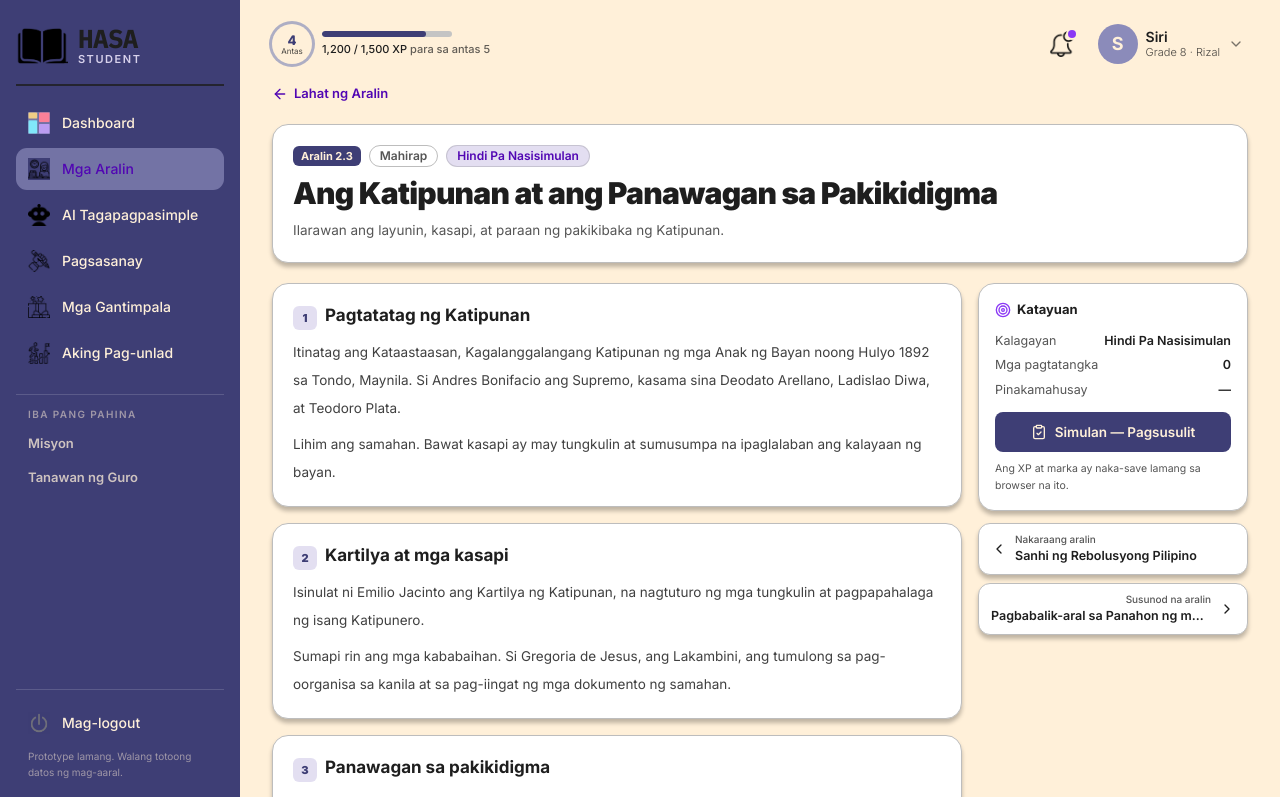
it: mga aralin › binubuksan ang pagsusulit mula sa aralin
Click the link "Simulan — Pagsusulit".
click(1113, 432)  # box [995,412,1231,452]
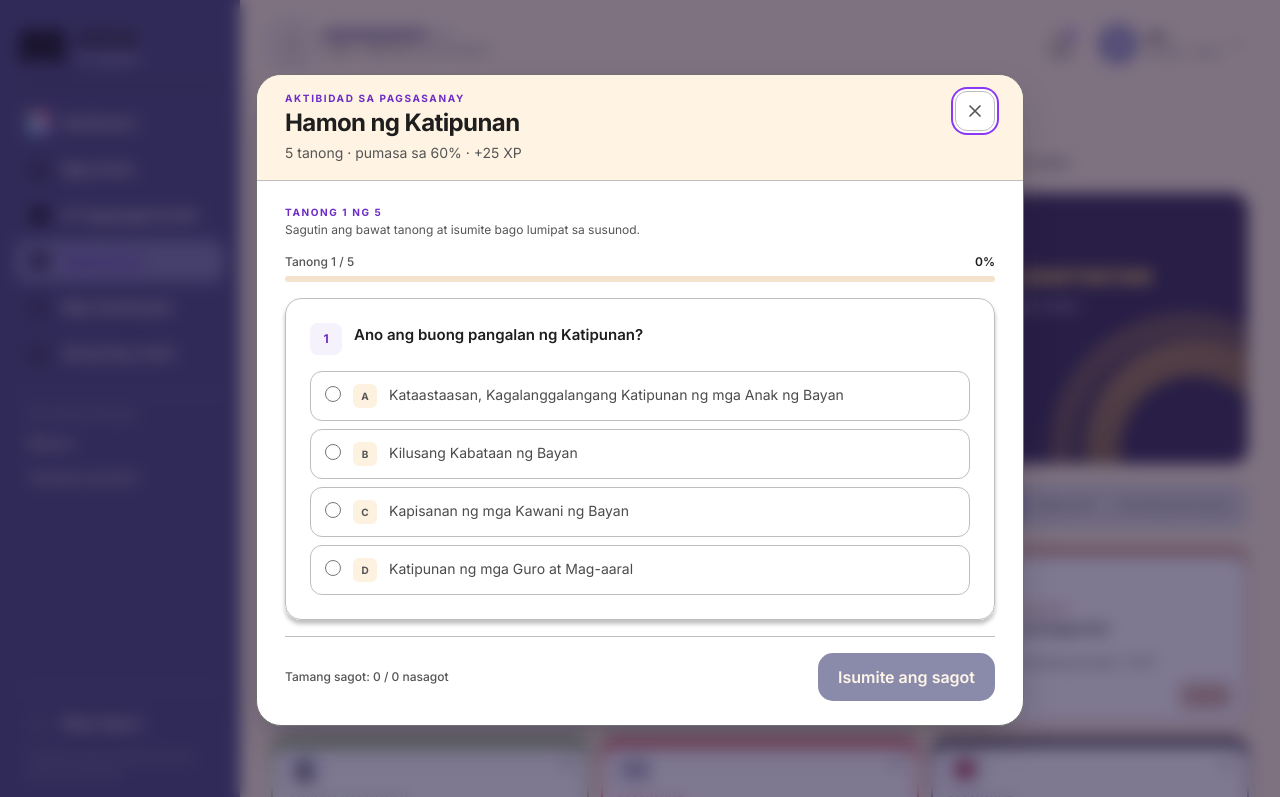
Now the dialog is shown, box [256,74,1024,726]
